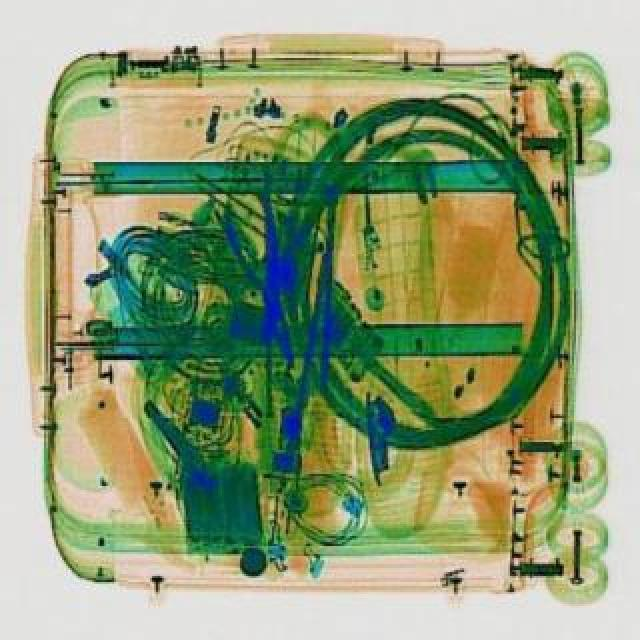wrench: (216, 196, 316, 372)
